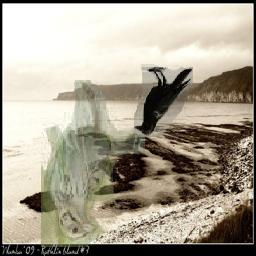Crow: (135, 65, 194, 138)
Sparrow: (41, 77, 145, 247)
